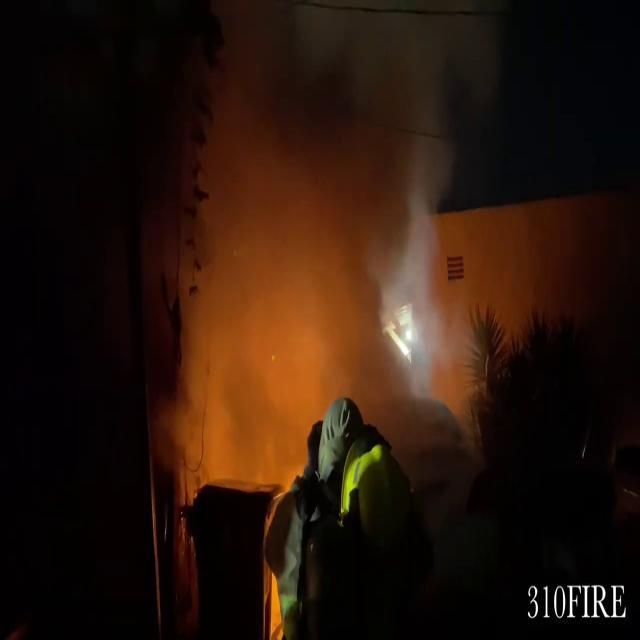Smoke: (144, 2, 455, 470)
